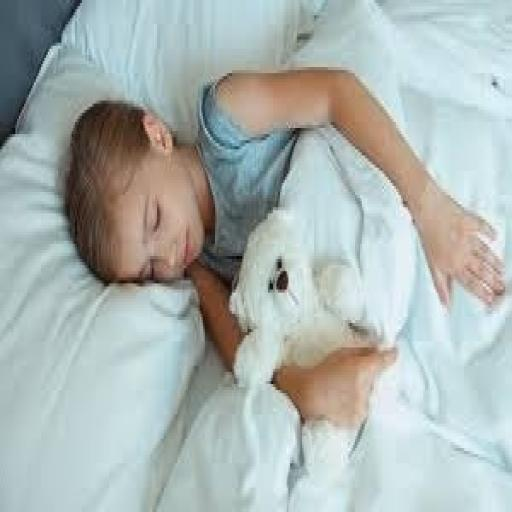sleeping: (60, 61, 505, 430)
